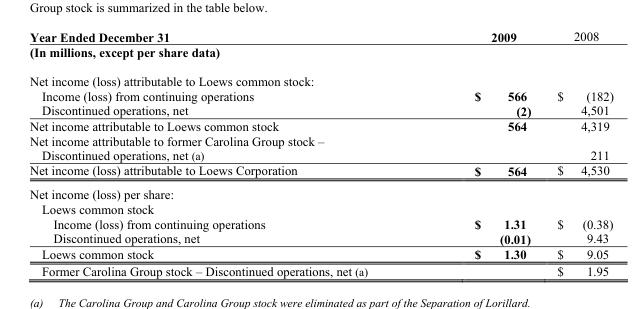table: (28, 29, 613, 278)
table column: (28, 29, 420, 278), (420, 29, 543, 278), (543, 29, 613, 278)
table column header: (28, 29, 613, 43)
table projected row header: (28, 43, 613, 66), (28, 66, 613, 88), (28, 182, 613, 201), (28, 132, 613, 147), (28, 201, 613, 216)
table row: (28, 43, 613, 66), (28, 66, 613, 88), (28, 162, 613, 182), (28, 182, 613, 201), (28, 245, 613, 262), (28, 262, 613, 278), (28, 102, 613, 117), (28, 117, 613, 132), (28, 132, 613, 147), (28, 147, 613, 162), (28, 201, 613, 216), (28, 230, 613, 245), (28, 29, 613, 43), (28, 88, 613, 102), (28, 216, 613, 230)
